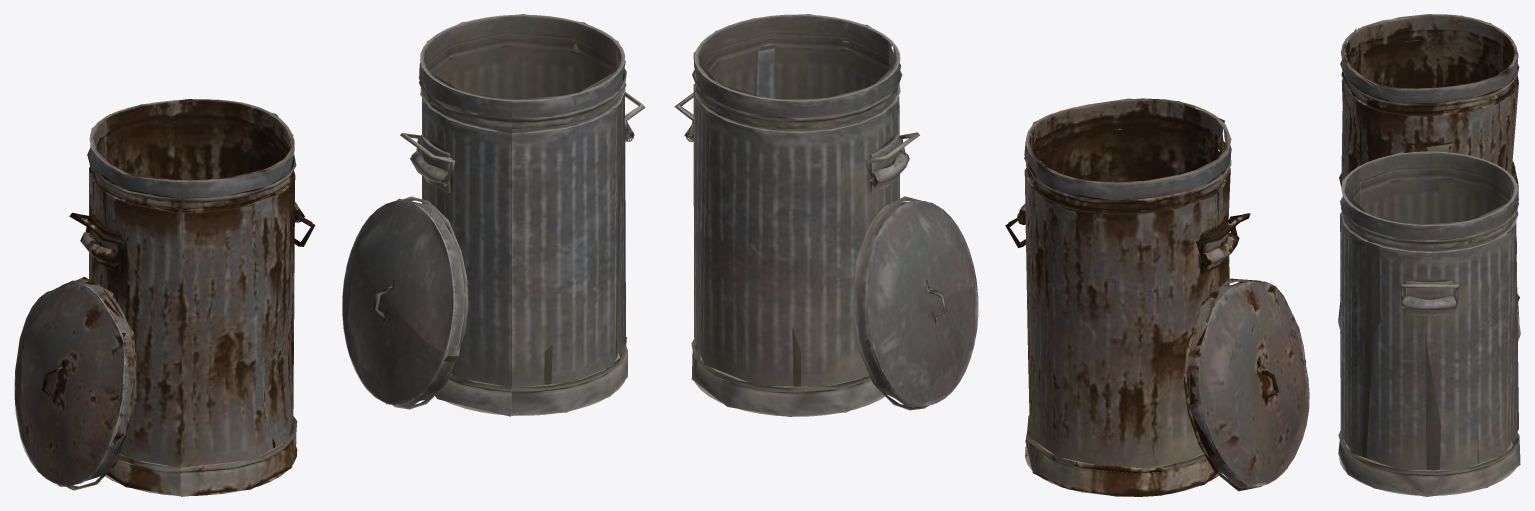
File: ph_metal_trash_can.glb
3 views of the same model, side by side, from view 1: azimuth 30°, elevation 25°; view 2: azimuth 150°, elevation 25°; view 3: azimuth 270°, elevation 25° (orthographic). The views are drawn at different scales.
Visible parts, largest first — view 1: metal_trash_can_handle_left; view 2: metal_trash_can_handle_left; view 3: metal_trash_can_handle_left.
Part boxes in pixels (x1=…): metal_trash_can_handle_left: x1=14, y1=14, x2=645, y2=496; metal_trash_can_handle_left: x1=674, y1=14, x2=1309, y2=496; metal_trash_can_handle_left: x1=1338, y1=14, x2=1520, y2=496.
Bounding box in the file's own units: 1.78 × 0.9064 × 0.5577.
Materials: 3 (3 with a texture image).
